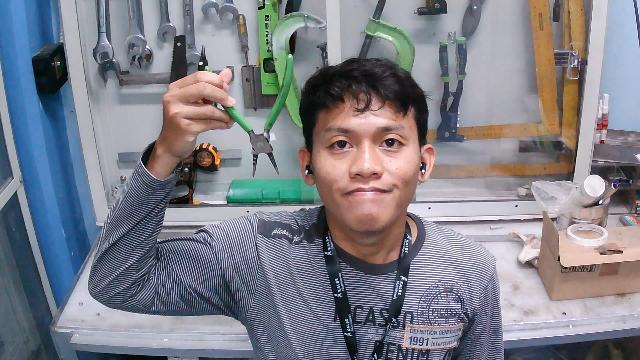tang_cucut_lancip_1: (198, 49, 298, 184)
